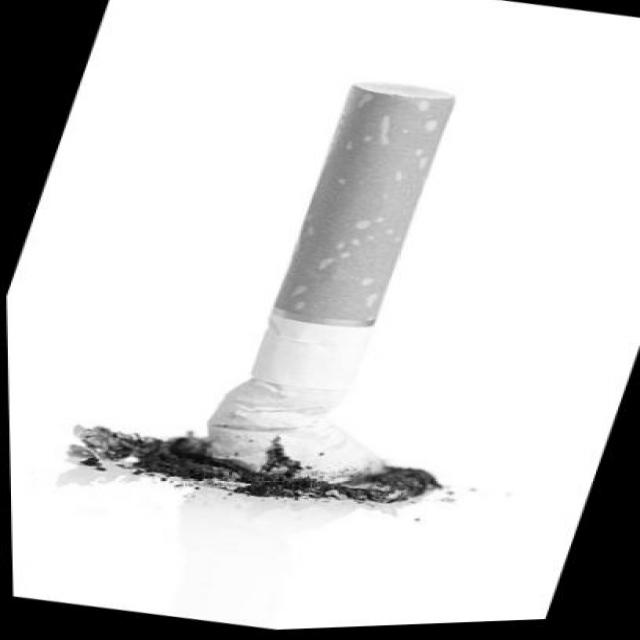cigarette: (192, 73, 476, 513)
